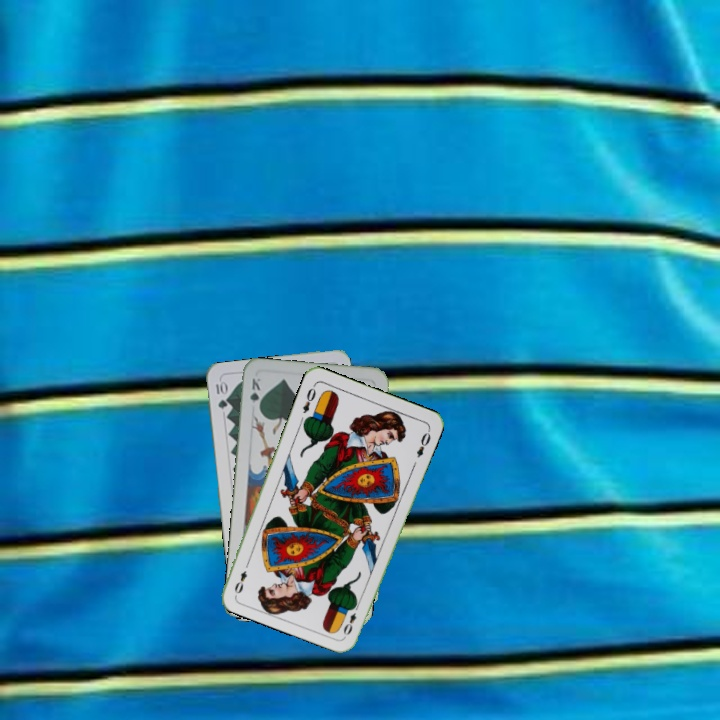EO: (339, 599, 362, 638), (298, 381, 319, 416)
G10: (212, 377, 229, 411)
GK: (246, 374, 263, 413)
